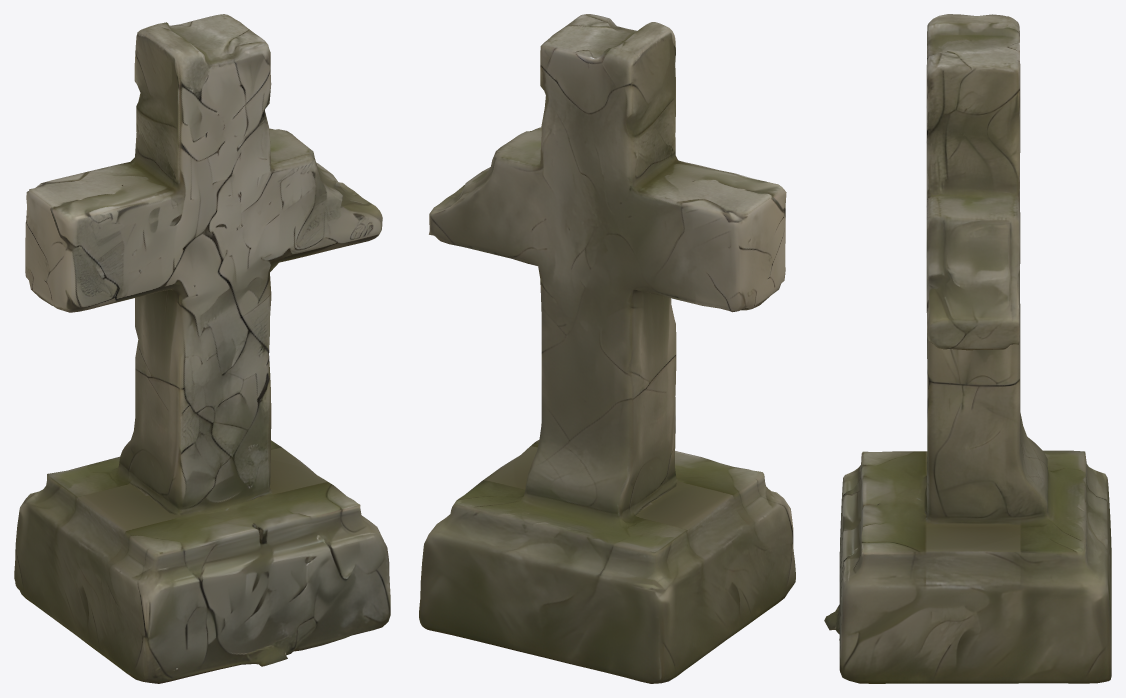
File: base_basic_shaded.glb
3 views of the same model, side by side, from view 1: azimuth 30°, elevation 25°; view 2: azimuth 150°, elevation 25°; view 3: azimuth 270°, elevation 25° (orthographic).
Parts seen in each view (by area): view 1: model; view 2: model; view 3: model.
Part boxes in pixels (box(x1,y1,x2,y2)): model: box(14, 14, 390, 683); model: box(419, 14, 795, 683); model: box(824, 14, 1111, 683).
Size of the model in its own units: 1.09 by 1.9 by 0.8417.
Materials: 1 (1 with a texture image).
